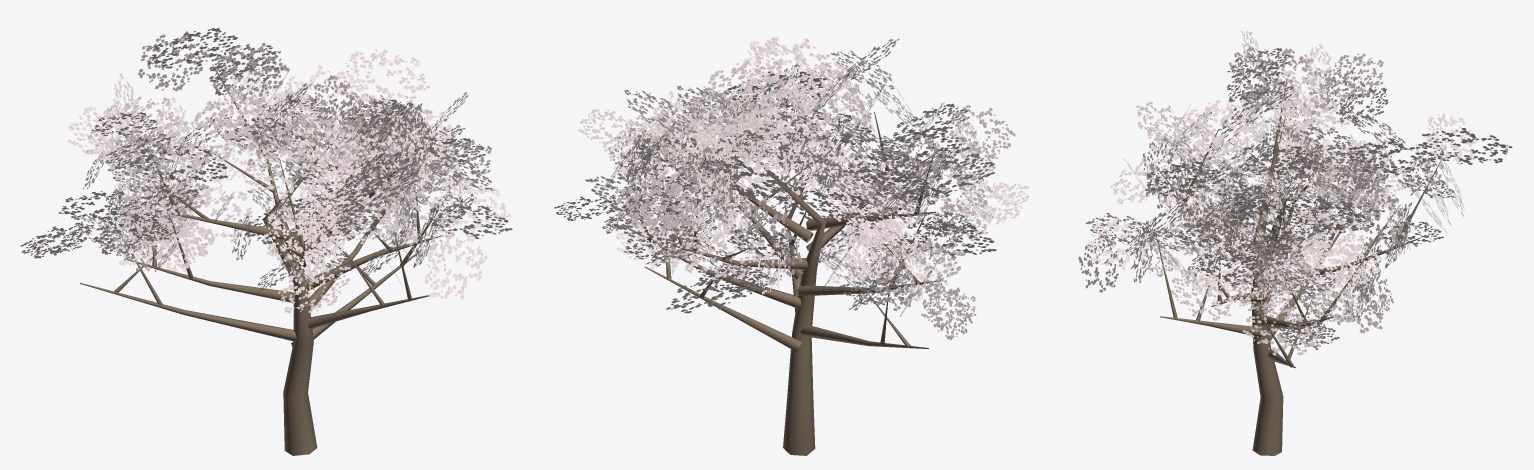
The model's file is sakura-61-balanced.glb.
3 renders of one model, left to right at view 1: azimuth 30°, elevation 25°; view 2: azimuth 150°, elevation 25°; view 3: azimuth 270°, elevation 25°, orthographic. The views are drawn at different scales.
Parts seen in each view (by area): view 1: LeafCards, Wood; view 2: LeafCards, Wood; view 3: LeafCards, Wood.
Boxes of the visible parts, left/top/right/bottom form: LeafCards: left=20, top=28, right=512, bottom=312; Wood: left=79, top=64, right=449, bottom=455; LeafCards: left=554, top=37, right=1028, bottom=340; Wood: left=625, top=108, right=940, bottom=455; LeafCards: left=1078, top=31, right=1512, bottom=355; Wood: left=1155, top=79, right=1441, bottom=455.
Bounding box in the file's own units: 9.38 × 8.23 × 9.2.
2 materials, 1 textured.
